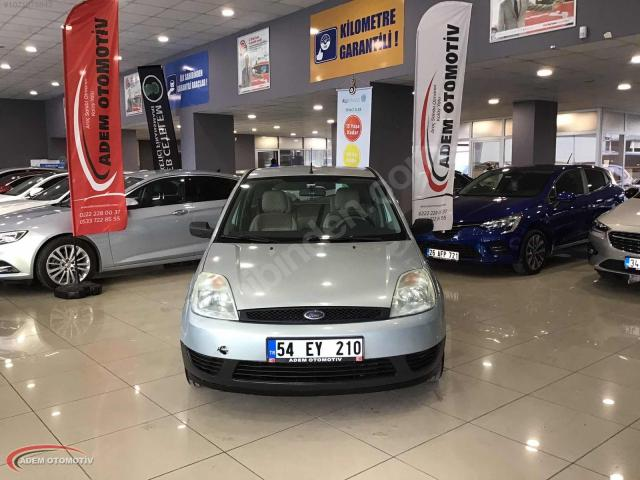plaka: (266, 337, 364, 362)
